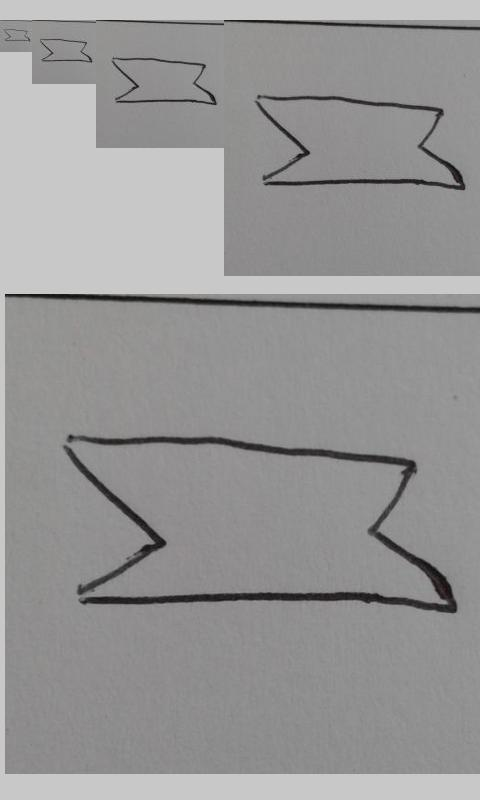edit_text: (59, 430, 458, 616), (255, 93, 466, 193), (111, 56, 218, 106), (39, 38, 92, 62), (3, 28, 31, 42)
